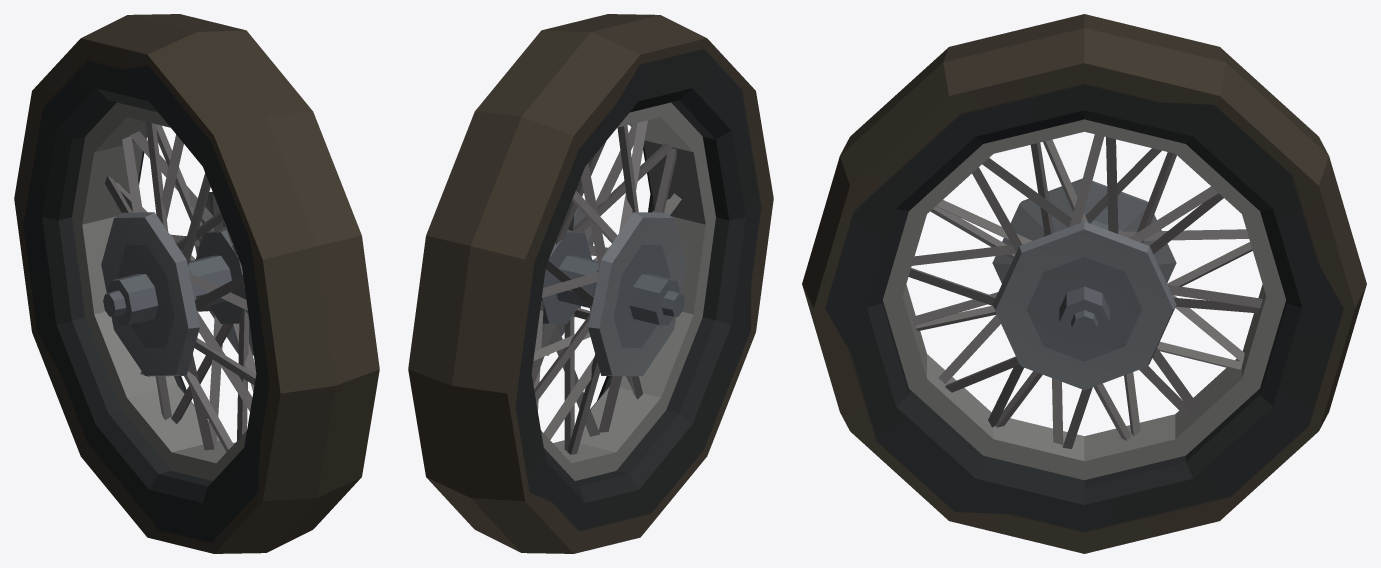
File: SM_Veh_Moped_FrontWheel_01.obj
3 renders of one model, left to right at view 1: azimuth 30°, elevation 25°; view 2: azimuth 150°, elevation 25°; view 3: azimuth 270°, elevation 25°, orthographic.
Parts seen in each view (by area): view 1: SM_Veh_Moped_FrontWheel_01_0; view 2: SM_Veh_Moped_FrontWheel_01_0; view 3: SM_Veh_Moped_FrontWheel_01_0.
Boxes of the visible parts, bbox=[...] form: SM_Veh_Moped_FrontWheel_01_0: bbox=[14, 14, 379, 553]; SM_Veh_Moped_FrontWheel_01_0: bbox=[408, 14, 773, 553]; SM_Veh_Moped_FrontWheel_01_0: bbox=[802, 14, 1366, 553].
Bounding box in the file's own units: 0.1903 × 0.5223 × 0.5223.
Materials: 1 (1 with a texture image).
